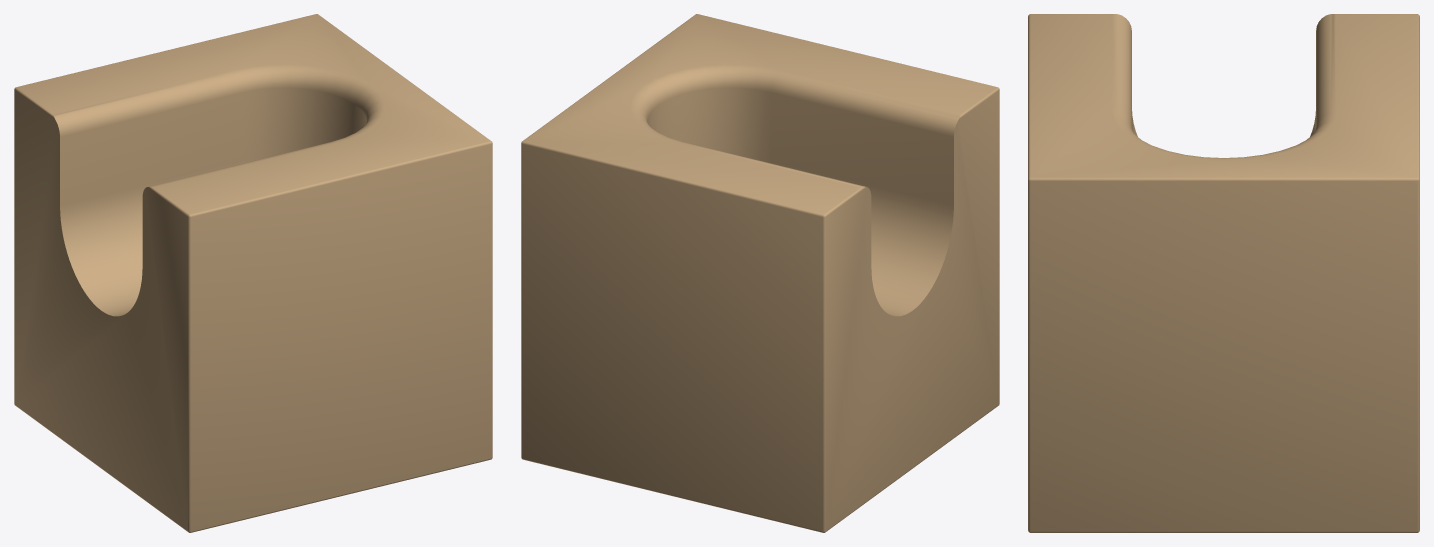
The model's file is blk_end_l2.glb.
3 views of the same model, side by side, from view 1: azimuth 30°, elevation 25°; view 2: azimuth 150°, elevation 25°; view 3: azimuth 270°, elevation 25° (orthographic). The views are drawn at different scales.
Parts seen in each view (by area): view 1: blk_end_l2_lod0; view 2: blk_end_l2_lod0; view 3: blk_end_l2_lod0.
Part boxes in pixels (bbox=[...]): blk_end_l2_lod0: bbox=[14, 14, 492, 532]; blk_end_l2_lod0: bbox=[521, 14, 999, 532]; blk_end_l2_lod0: bbox=[1028, 14, 1419, 532].
Size of what is drawn, in the model's own units: 0.0596 by 0.0596 by 0.0596.
